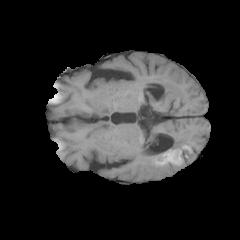glioma: (140, 69, 192, 165)
